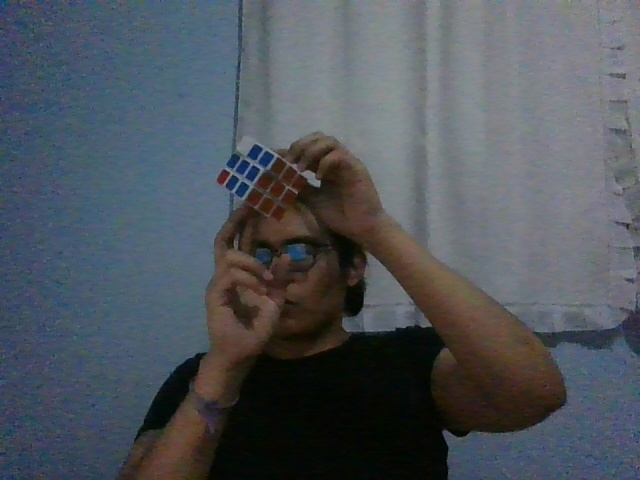rubik: (216, 136, 308, 224)
